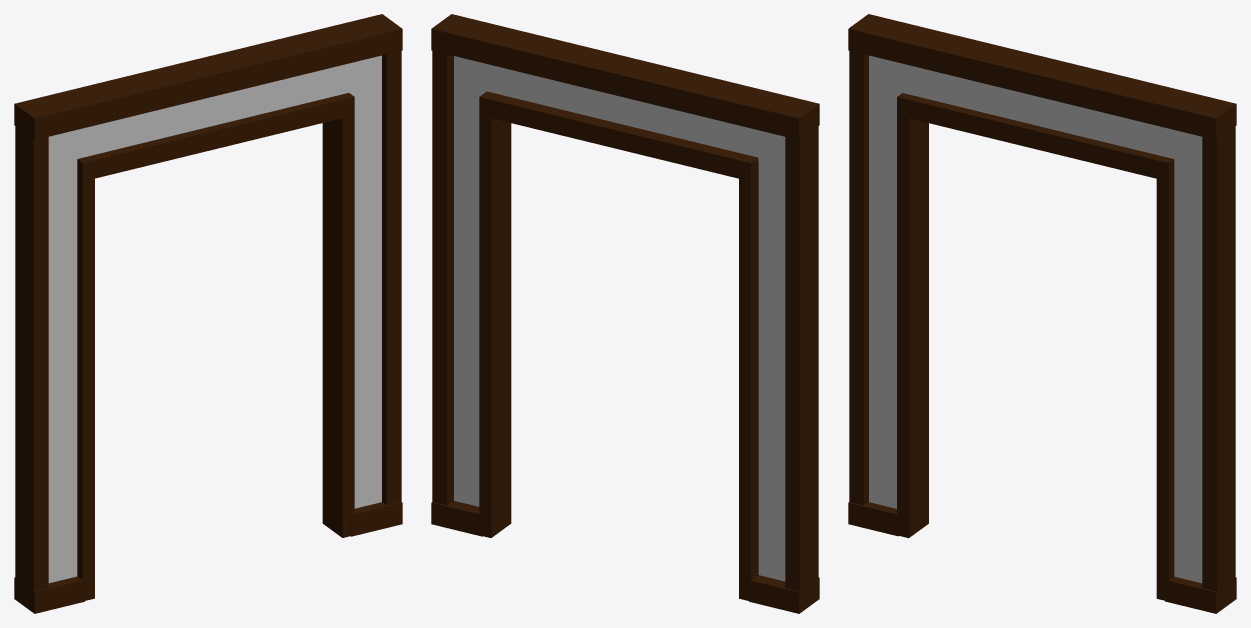
Rendered from MaisRich_porte_int.fbx.
3 renders of one model, left to right at view 1: azimuth 30°, elevation 25°; view 2: azimuth 150°, elevation 25°; view 3: azimuth 330°, elevation 25°, orthographic.
Visible parts, largest first — view 1: polySurface81; view 2: polySurface81; view 3: polySurface81.
Part boxes in pixels (x1=…): polySurface81: x1=14, y1=14, x2=402, y2=613; polySurface81: x1=431, y1=14, x2=819, y2=613; polySurface81: x1=848, y1=14, x2=1236, y2=613.
Bounding box in the file's own units: 30.47 × 39.2 × 2.92.
